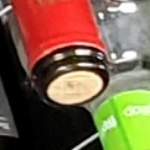bottle: (17, 39, 127, 122)
